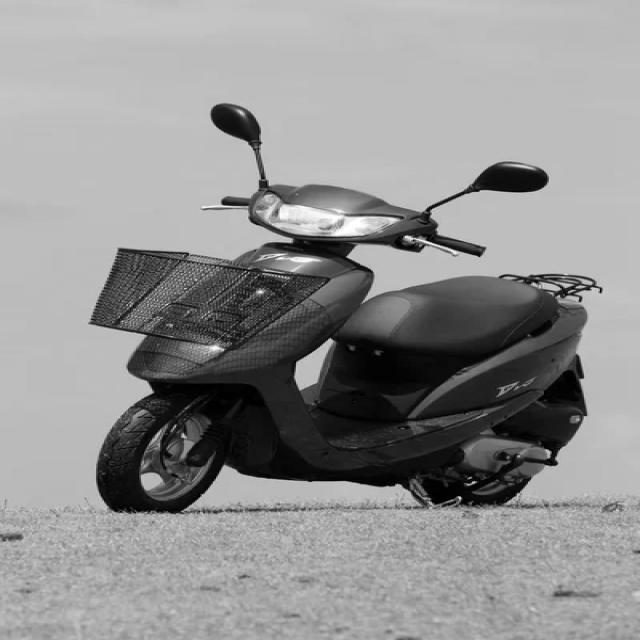Motorcycle: (90, 104, 603, 512)
